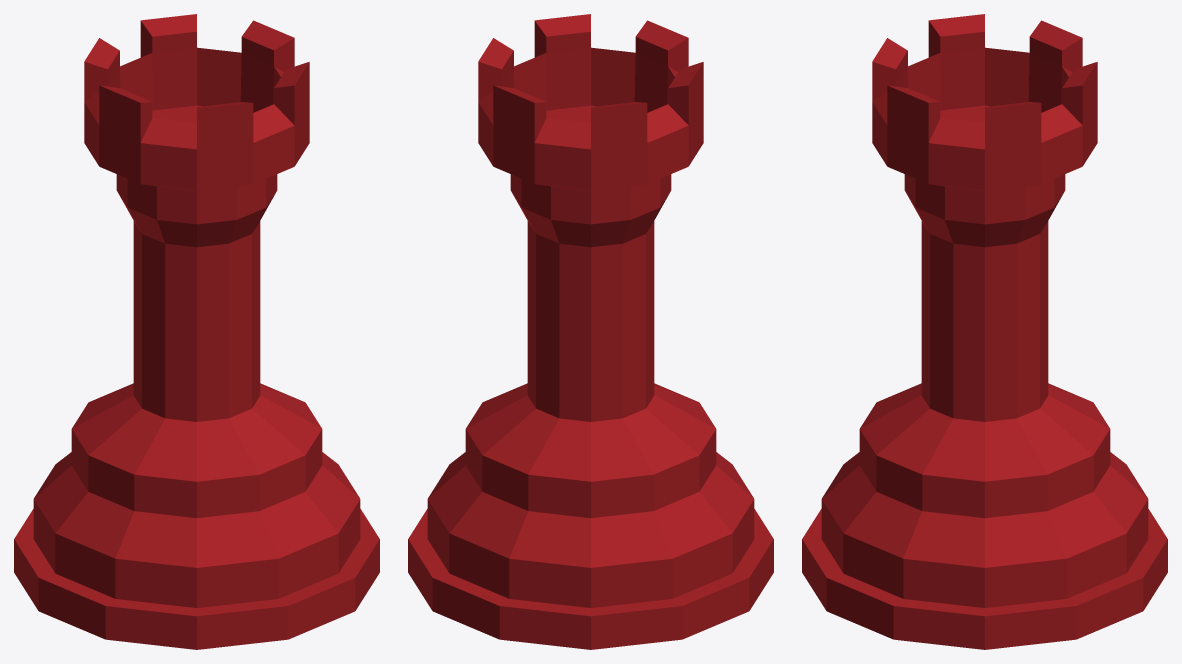
The model's file is lowpoly_r_b.glb.
The picture shows the model from 3 angles, left to right: view 1: azimuth 30°, elevation 25°; view 2: azimuth 150°, elevation 25°; view 3: azimuth 270°, elevation 25°; orthographic projection.
Visible parts, largest first — view 1: Rook.003; view 2: Rook.003; view 3: Rook.003.
Boxes of the visible parts, left/top/right/bottom form: Rook.003: left=14, top=14, right=379, bottom=649; Rook.003: left=408, top=14, right=773, bottom=649; Rook.003: left=802, top=14, right=1167, bottom=649.
Size of the model in its own units: 0.0821 by 0.1266 by 0.0821.
